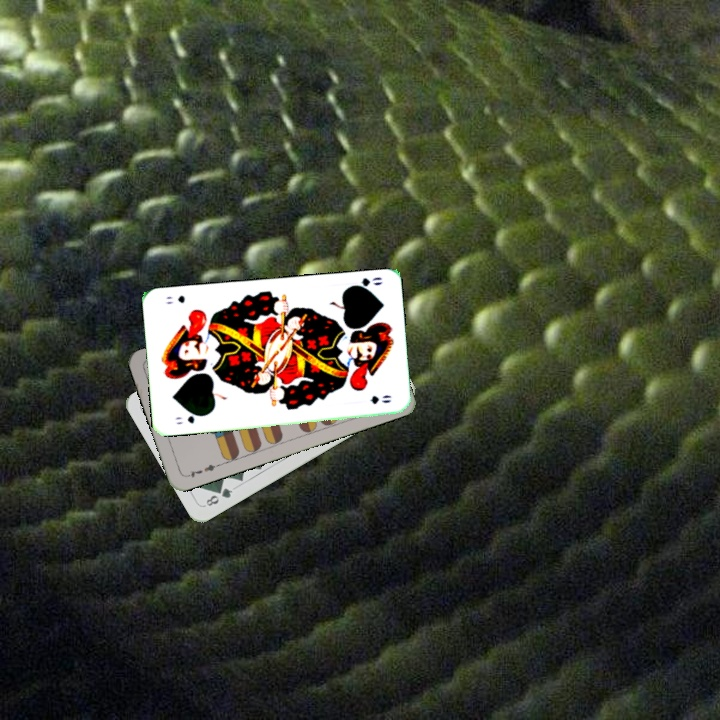E7: (182, 460, 221, 480)
G8: (202, 484, 235, 509)
GO: (345, 273, 385, 293), (172, 409, 207, 427)
